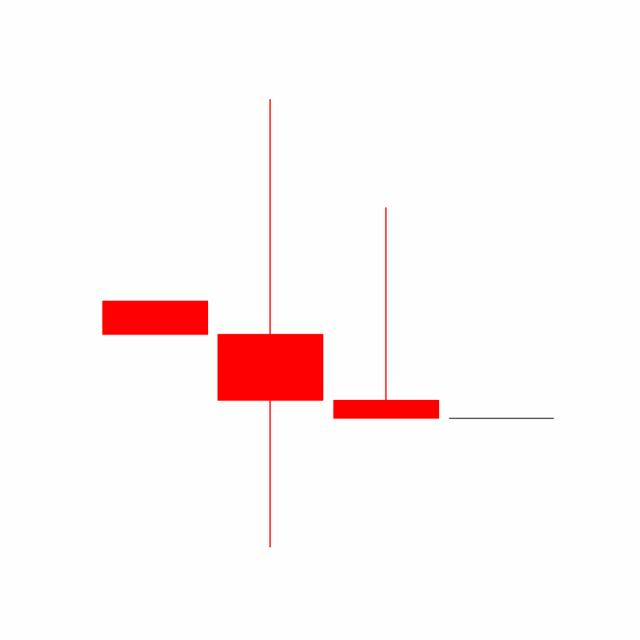Gravestone Doji: (328, 205, 444, 421)
